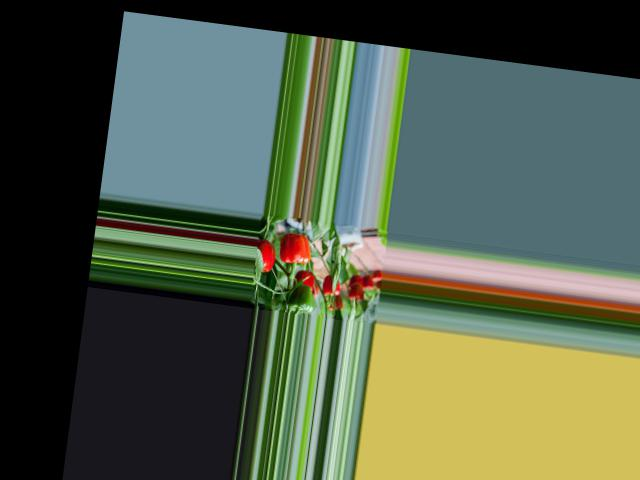bell_pepper: (321, 268, 344, 302)
